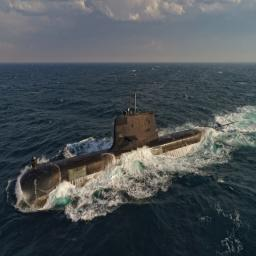submarine: (17, 109, 237, 213)
